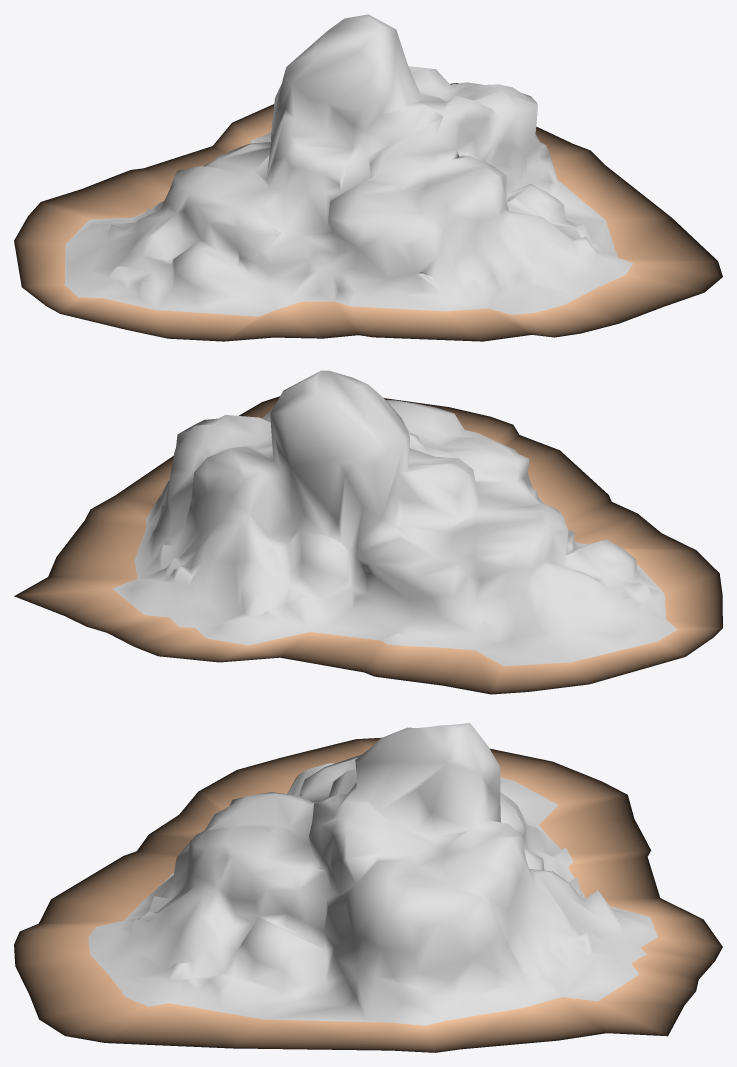
File: mountain_3.FBX
3 renders of one model, top to bottom at view 1: azimuth 30°, elevation 25°; view 2: azimuth 150°, elevation 25°; view 3: azimuth 270°, elevation 25°, orthographic. The views are drawn at different scales.
Parts seen in each view (by area): view 1: mountain_3_L001; view 2: mountain_3_L001; view 3: mountain_3_L001.
Boxes of the visible parts, <box> form: mountain_3_L001: <box>14,14,722,341</box>; mountain_3_L001: <box>14,370,722,694</box>; mountain_3_L001: <box>14,723,722,1052</box>.
Bounding box in the file's own units: 0.9172 × 0.2805 × 0.8723.
